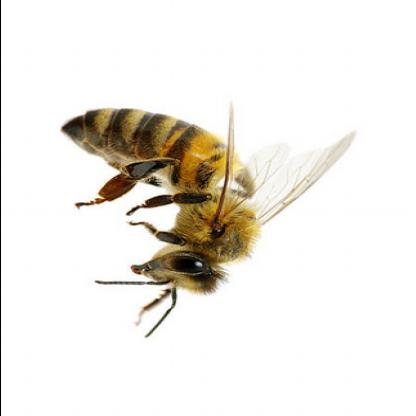other: (51, 101, 360, 346)
